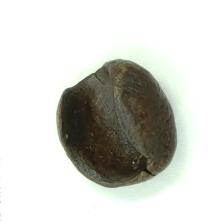NG: (55, 58, 151, 187)
